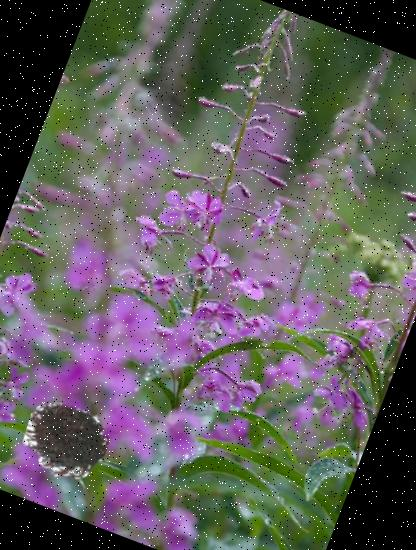Rambutan: (12, 388, 119, 495)
